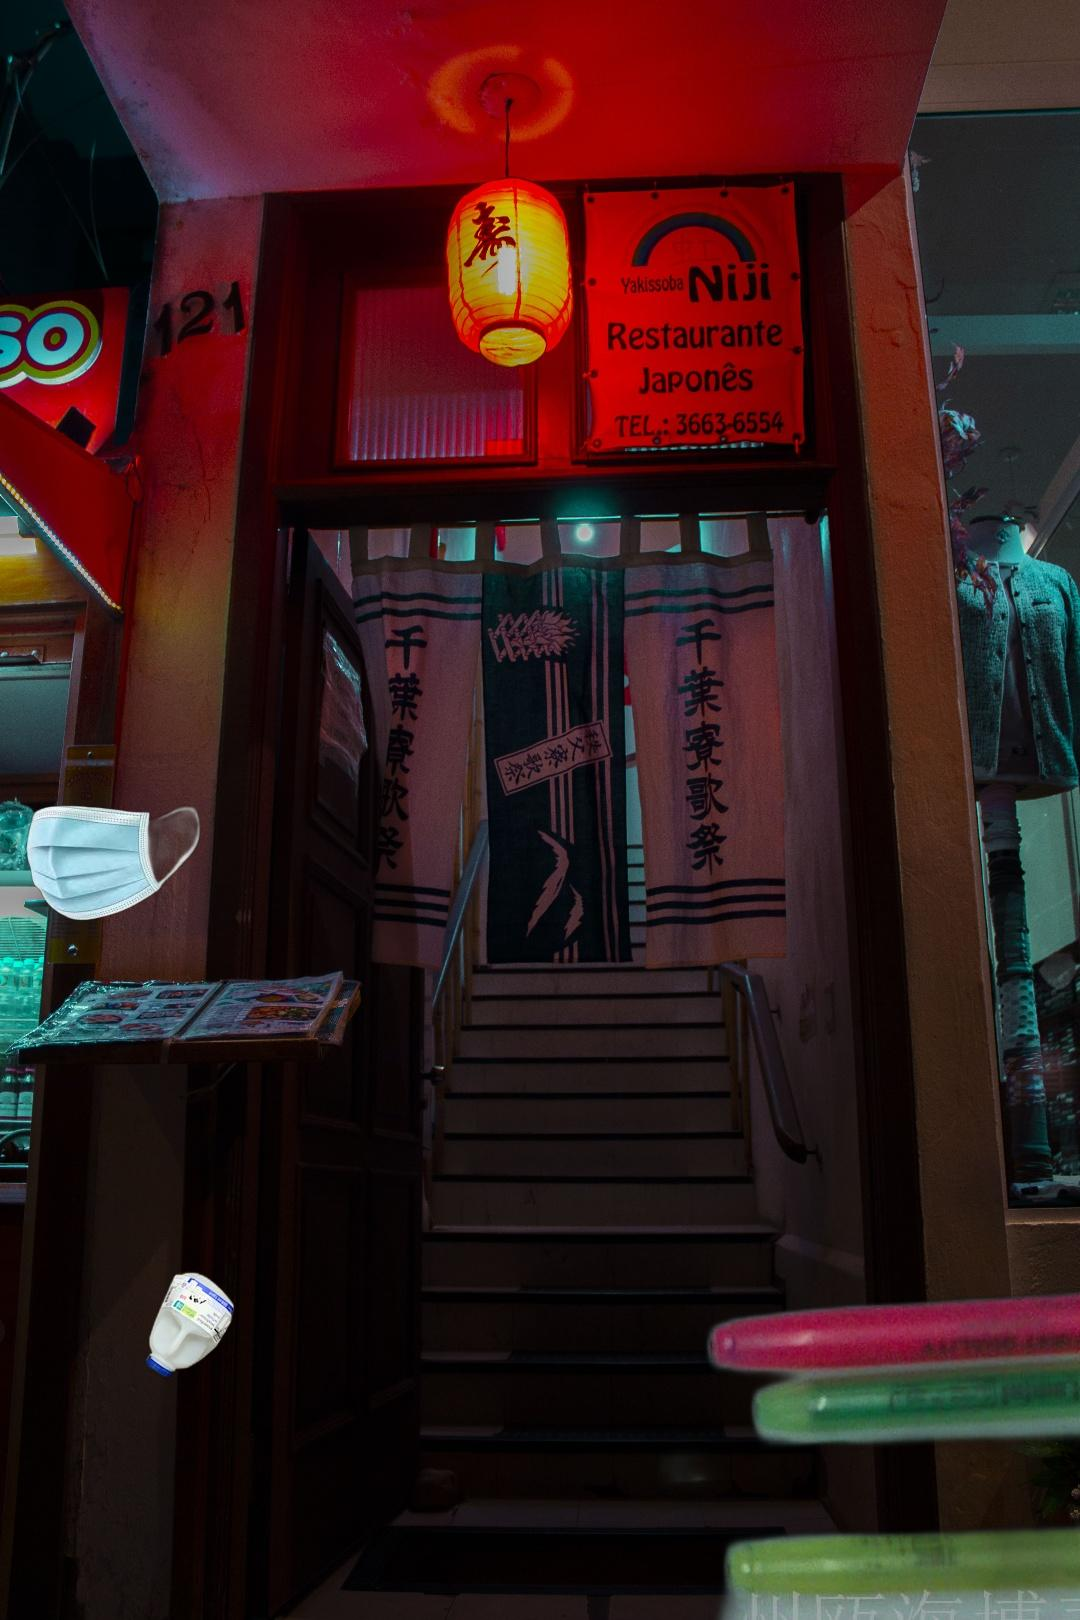penholder: (579, 1264, 1080, 1620)
plastic-bottles: (141, 1266, 239, 1384)
trash: (23, 802, 206, 923)
